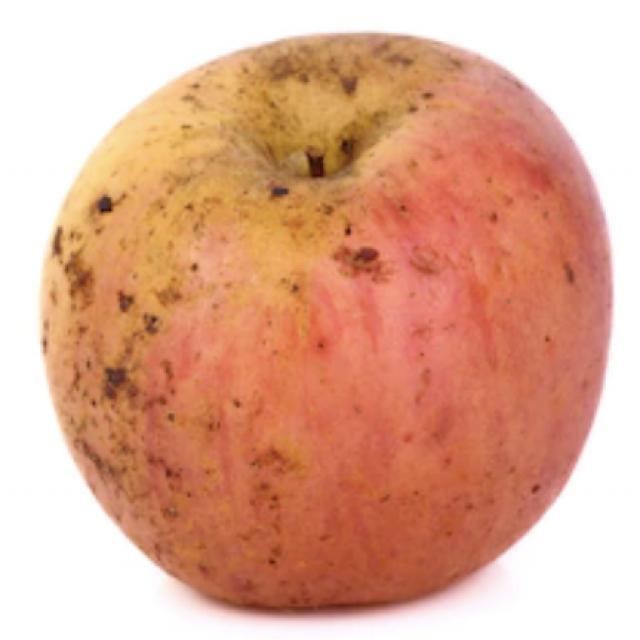Rotten: (50, 28, 622, 607)
